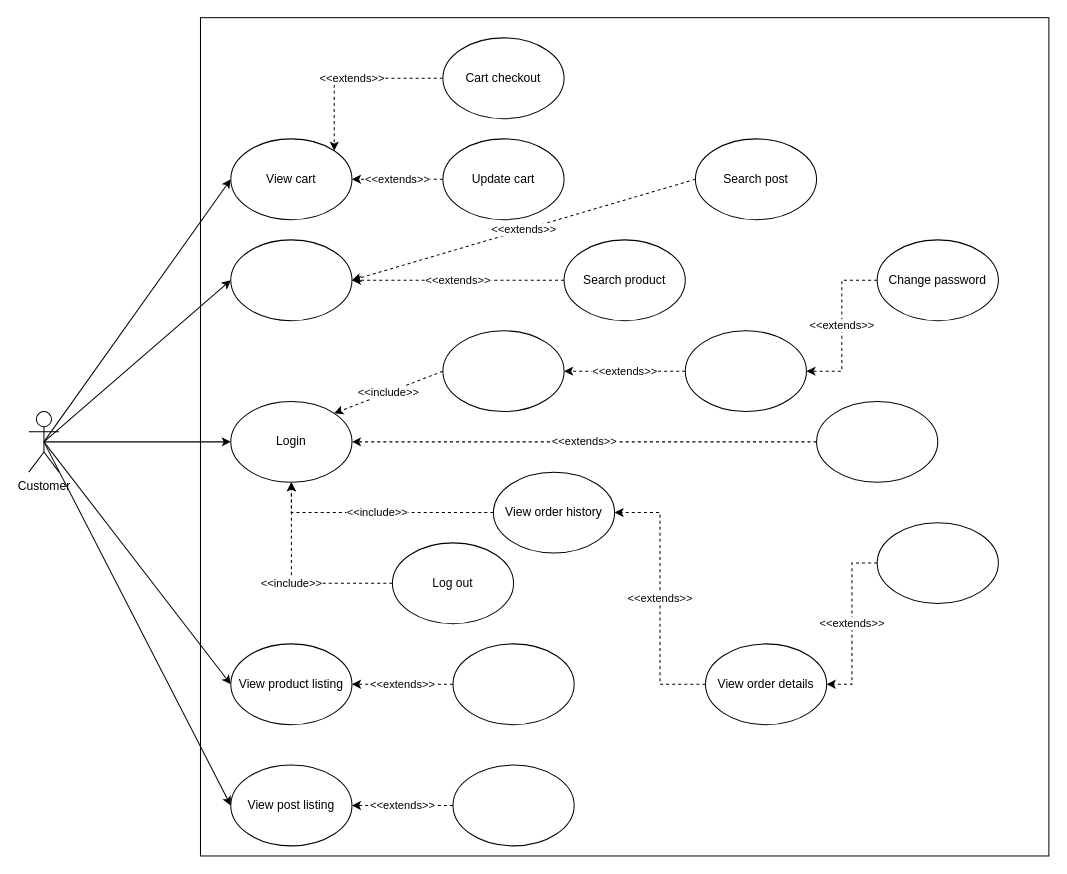
The diagram is 1067 pixels wide and 874 high, and some of its shapes have lost their labels. The shapes that lost their labels are listed below. From the top down, each one's centre as x and y in pixels, then its label:
At (291,280): "View homepage".
At (503,371): "View profile".
At (745,371): "Edit profile".
At (877,441): "Reset password".
At (937,562): "Add feedback".
At (513,684): "View product details".
At (513,805): "View post details".
